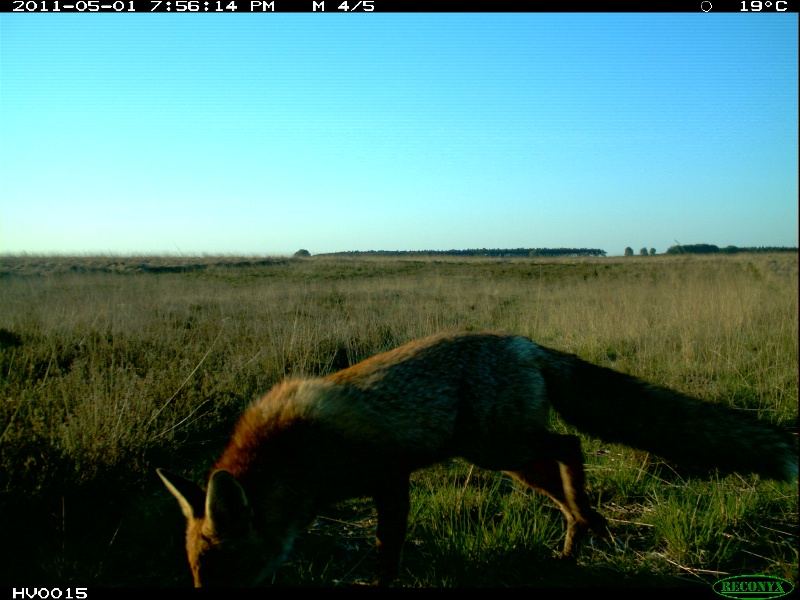fox: (150, 321, 782, 586)
